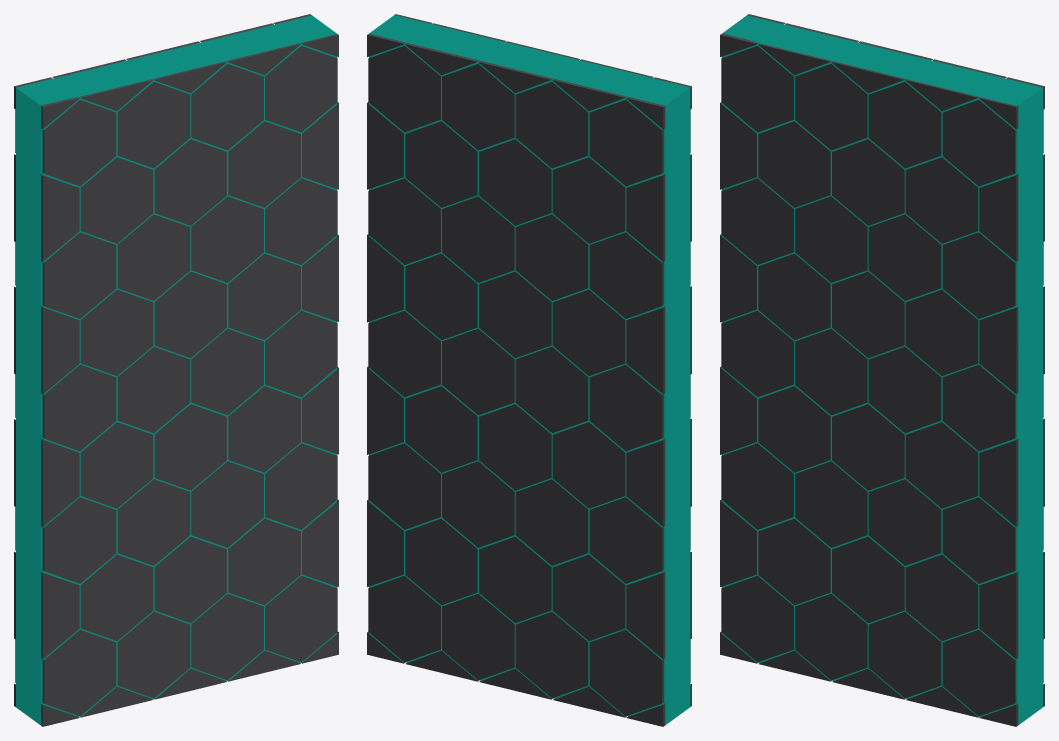
Rendered from HexagonGridWall.glb.
3 views of the same model, side by side, from view 1: azimuth 30°, elevation 25°; view 2: azimuth 150°, elevation 25°; view 3: azimuth 330°, elevation 25° (orthographic).
Visible parts, largest first — view 1: wall_hexagon; view 2: wall_hexagon; view 3: wall_hexagon.
Part boxes in pixels (x1=…): wall_hexagon: x1=14, y1=14, x2=338, y2=726; wall_hexagon: x1=367, y1=14, x2=691, y2=726; wall_hexagon: x1=720, y1=14, x2=1044, y2=726.
Size of what is drawn, in the model's own units: 2 by 4 by 0.3346.
2 materials, 2 textured.
